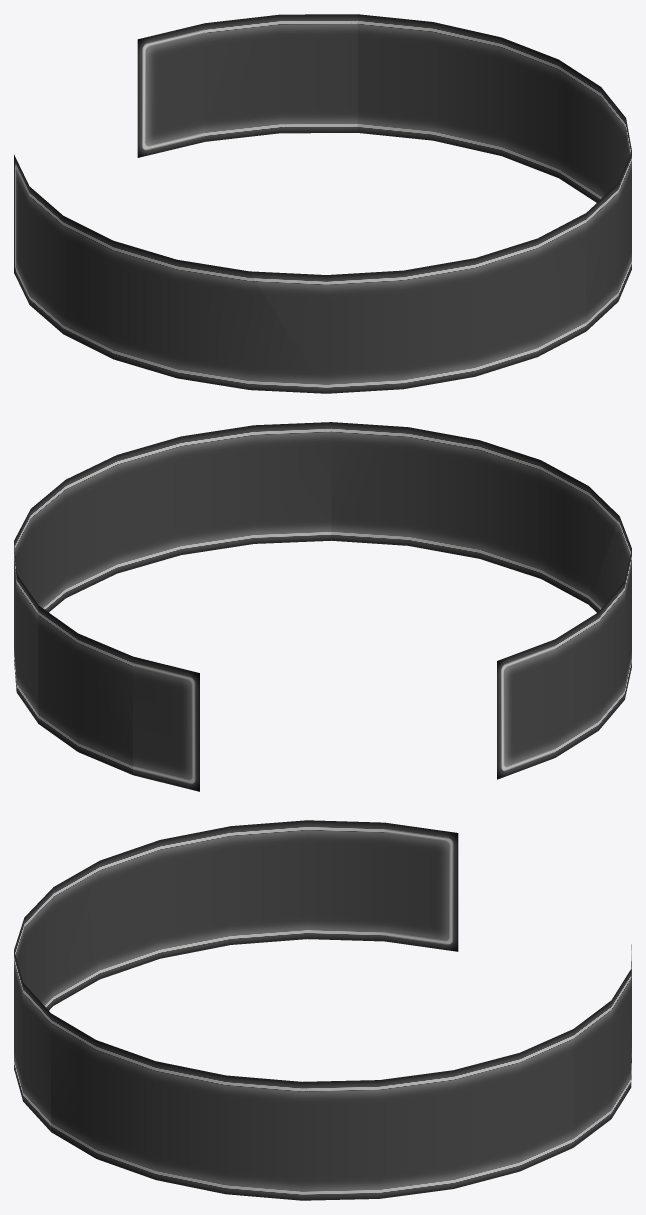
File: Effect_paichihuan06.FBX
3 renders of one model, top to bottom at view 1: azimuth 30°, elevation 25°; view 2: azimuth 150°, elevation 25°; view 3: azimuth 270°, elevation 25°, orthographic.
Visible parts, largest first — view 1: Effect_paichihuan06; view 2: Effect_paichihuan06; view 3: Effect_paichihuan06.
Boxes of the visible parts, x1,y1,x2,y2 form: Effect_paichihuan06: [14, 14, 631, 393]; Effect_paichihuan06: [14, 422, 631, 791]; Effect_paichihuan06: [14, 820, 631, 1200].
Bounding box in the file's own units: 8.8 × 1.86 × 8.79.
1 material, 1 textured.
